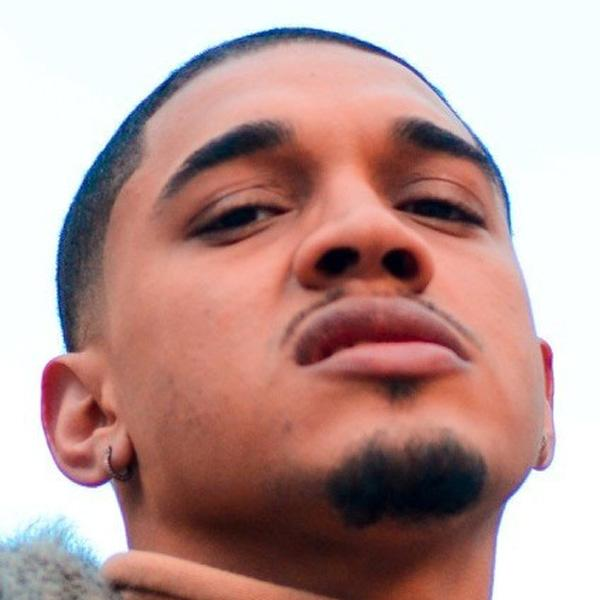Eyes: (176, 172, 304, 258), (375, 166, 495, 242)
